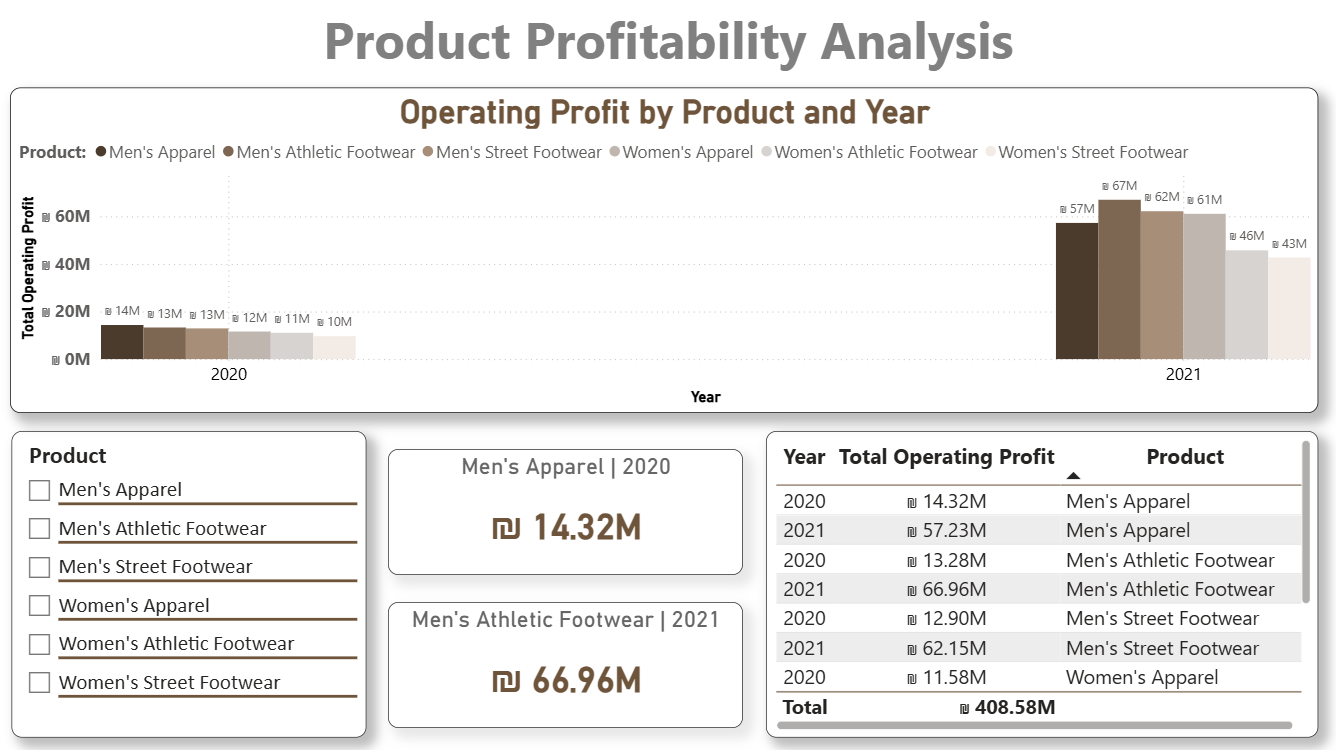

This screenshot's page, from the dashboard's own definition file:
{"tool":"powerbi","page":{"name":"Product Profitability Analysis","canvas":[1280,720],"ordinal":5},"visuals":[{"type":"tableEx","fields":{"Values":["Dim_Time.Year","MeasuresTable.Total Profit Per Year","Dim_Product.Product"]},"box":[734,412,526,292],"z":0},{"type":"slicer","fields":{"Values":["Dim_Product.Product"]},"box":[16,412,338,292],"z":1000},{"type":"textbox","box":[272,0,740,84],"z":2000},{"type":"clusteredColumnChart","title":"Operating Profit by Product and Year","fields":{"Category":["Dim_Time.Year"],"Y":["MeasuresTable.Total Profit Per Year"],"Series":["Dim_Product.Product"]},"box":[14,84,1246,310],"z":3000},{"type":"card","title":"Men''s Athletic Footwear | 2021","fields":{"Values":["MeasuresTable.Total Operating Profit for Men's Athletic 2021"]},"box":[374,574,338,120],"z":4000},{"type":"card","title":"Men''s Apparel | 2020","fields":{"Values":["MeasuresTable.Total Operating Profit for Men's Apparel 2020"]},"box":[374,428,338,120],"z":5000}]}

Visuals, with their boxes in screenshot pixels (x1, y1, x2, y2), scaled from the page's 1280x720 canvas onto the 1336x750 screenshot:
tableEx - Dim_Time.Year x MeasuresTable.Total Profit Per Year: {"x1": 766, "y1": 429, "x2": 1315, "y2": 733}
slicer - Dim_Product.Product: {"x1": 17, "y1": 429, "x2": 369, "y2": 733}
textbox: {"x1": 284, "y1": 0, "x2": 1056, "y2": 88}
"Operating Profit by Product and Year" clusteredColumnChart: {"x1": 15, "y1": 88, "x2": 1315, "y2": 410}
"Men''s Athletic Footwear | 2021" card: {"x1": 390, "y1": 598, "x2": 743, "y2": 723}
"Men''s Apparel | 2020" card: {"x1": 390, "y1": 446, "x2": 743, "y2": 571}
